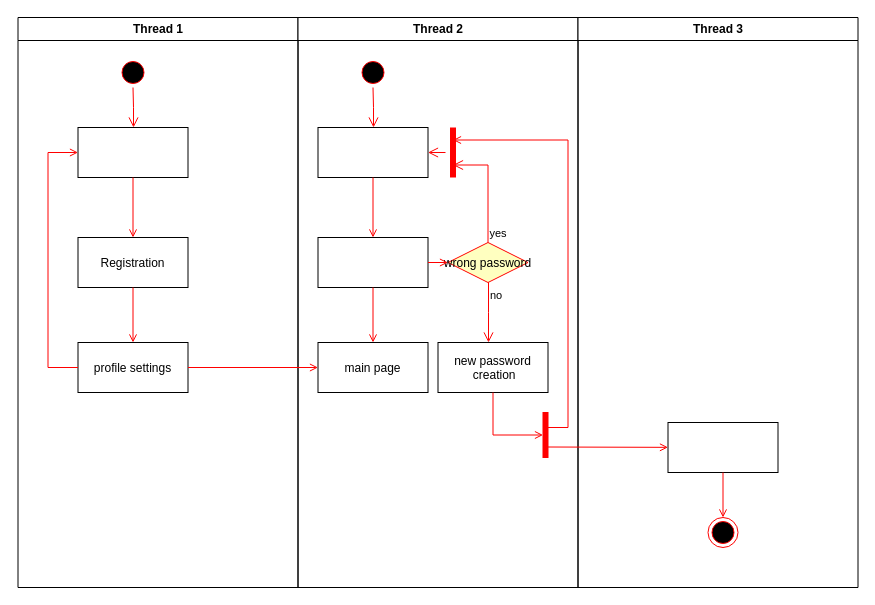
Some shapes in this 875 by 605 pixel diagram are drawn without their labels. Here are the shapes that lost their labels. From the top down, the centre of each, then its label:
pixel 132 152: New user
pixel 372 152: Current user
pixel 372 262: Log-in
pixel 722 447: e-mail authentication
